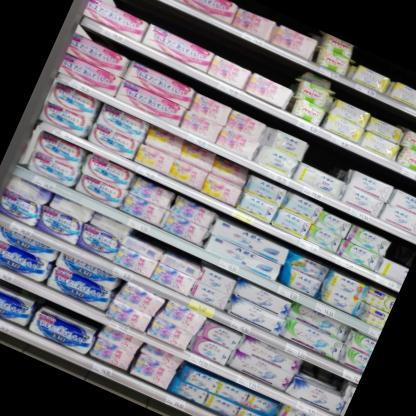empty_space: (300, 135, 357, 185), (384, 237, 416, 272)
